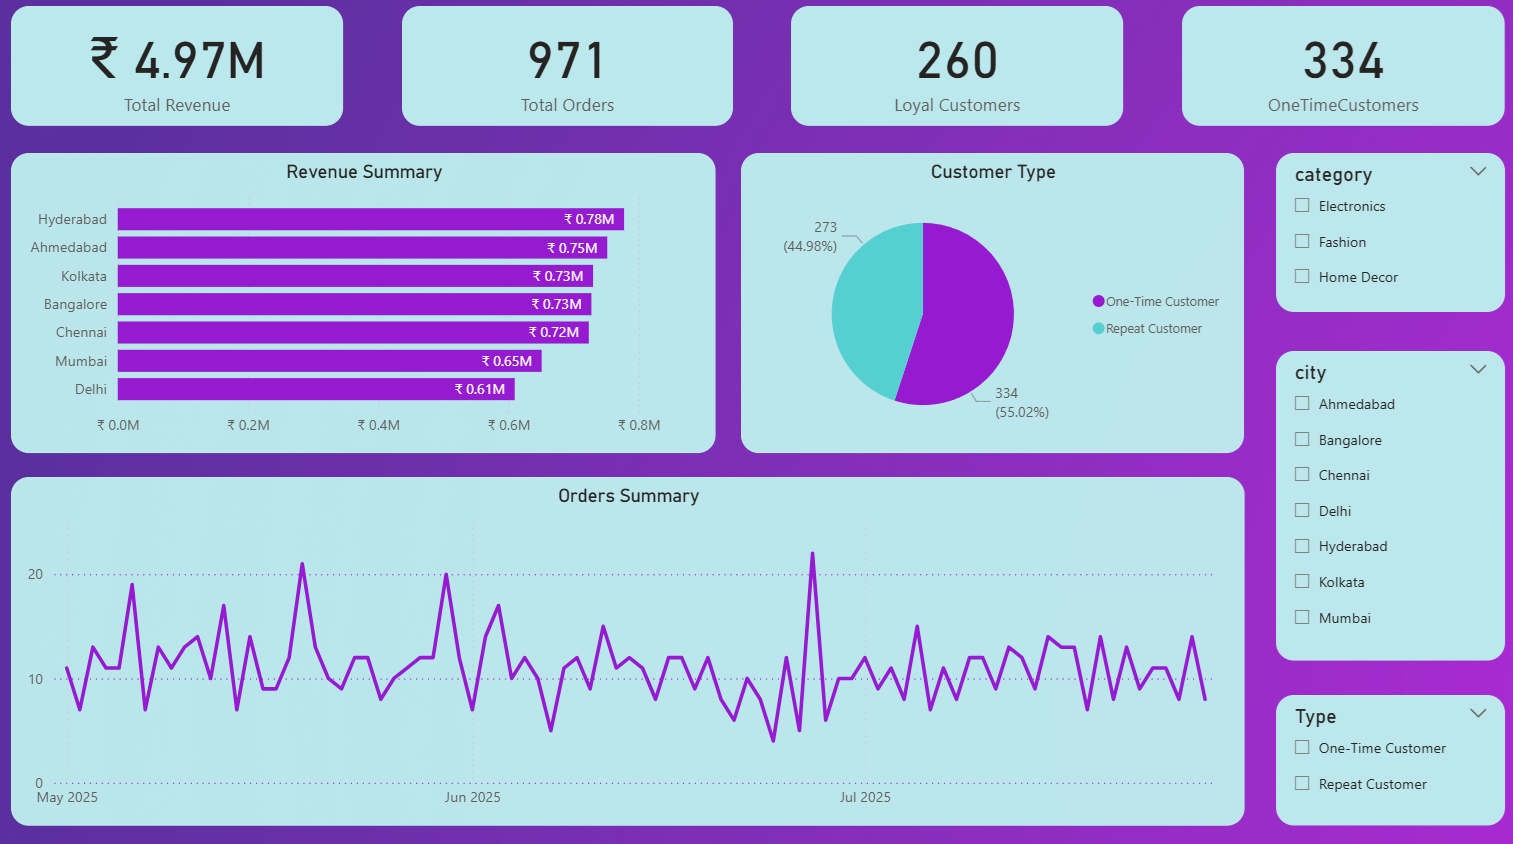

The dashboard page shown, as its layout file describes it:
{"tool":"powerbi","page":{"name":"Dashboard","canvas":[1280,720],"ordinal":0},"visuals":[{"type":"card","fields":{"Values":["Sum(orders.revenue)"]},"box":[9.9,8.1,280.3,101.2],"z":0},{"type":"card","fields":{"Values":["Count(orders.order_id)"]},"box":[339.4,8.1,279.4,101.2],"z":1000},{"type":"card","fields":{"Values":["select","orders.RepeatCustomers"]},"box":[668.1,8.1,280.3,101.2],"z":2000},{"type":"card","fields":{"Values":["orders.OneTimeCustomers"]},"box":[997.6,8.1,272.2,101.2],"z":3000},{"type":"barChart","title":"Revenue Summary","fields":{"Category":["orders.city"],"Y":["Sum(orders.revenue)"]},"box":[9.9,132.5,593.7,253.4],"z":4000},{"type":"lineChart","title":"Orders Summary","fields":{"Y":["CountNonNull(orders.order_id)"],"Category":["orders.order_date"]},"box":[9.9,405.7,1039.7,293.7],"z":5000},{"type":"pieChart","title":"Customer Type","fields":{"Y":["Count(orders.customer_id)"],"Category":["CustomerType.Type"]},"box":[626,132.5,423.6,253.4],"z":6000},{"type":"slicer","fields":{"Values":["CustomerType.Type"]},"box":[1076.4,589.3,193.4,110.1],"z":7000},{"type":"slicer","fields":{"Values":["orders.city"]},"box":[1076.4,299.1,193.4,260.6],"z":8000},{"type":"slicer","fields":{"Values":["products.category"]},"box":[1076.4,132.5,193.4,134.3],"z":9000}]}

Visuals, with their boxes in screenshot pixels (x1, y1, x2, y2), scaled from the page's 1280x720 canvas onto the 1513x844 screenshot:
card - Sum(orders.revenue): {"x1": 12, "y1": 9, "x2": 343, "y2": 128}
card - Count(orders.order_id): {"x1": 401, "y1": 9, "x2": 731, "y2": 128}
card - select x orders.RepeatCustomers: {"x1": 790, "y1": 9, "x2": 1121, "y2": 128}
card - orders.OneTimeCustomers: {"x1": 1179, "y1": 9, "x2": 1501, "y2": 128}
"Revenue Summary" barChart: {"x1": 12, "y1": 155, "x2": 713, "y2": 452}
"Orders Summary" lineChart: {"x1": 12, "y1": 476, "x2": 1241, "y2": 820}
"Customer Type" pieChart: {"x1": 740, "y1": 155, "x2": 1241, "y2": 452}
slicer - CustomerType.Type: {"x1": 1272, "y1": 691, "x2": 1501, "y2": 820}
slicer - orders.city: {"x1": 1272, "y1": 351, "x2": 1501, "y2": 656}
slicer - products.category: {"x1": 1272, "y1": 155, "x2": 1501, "y2": 313}
